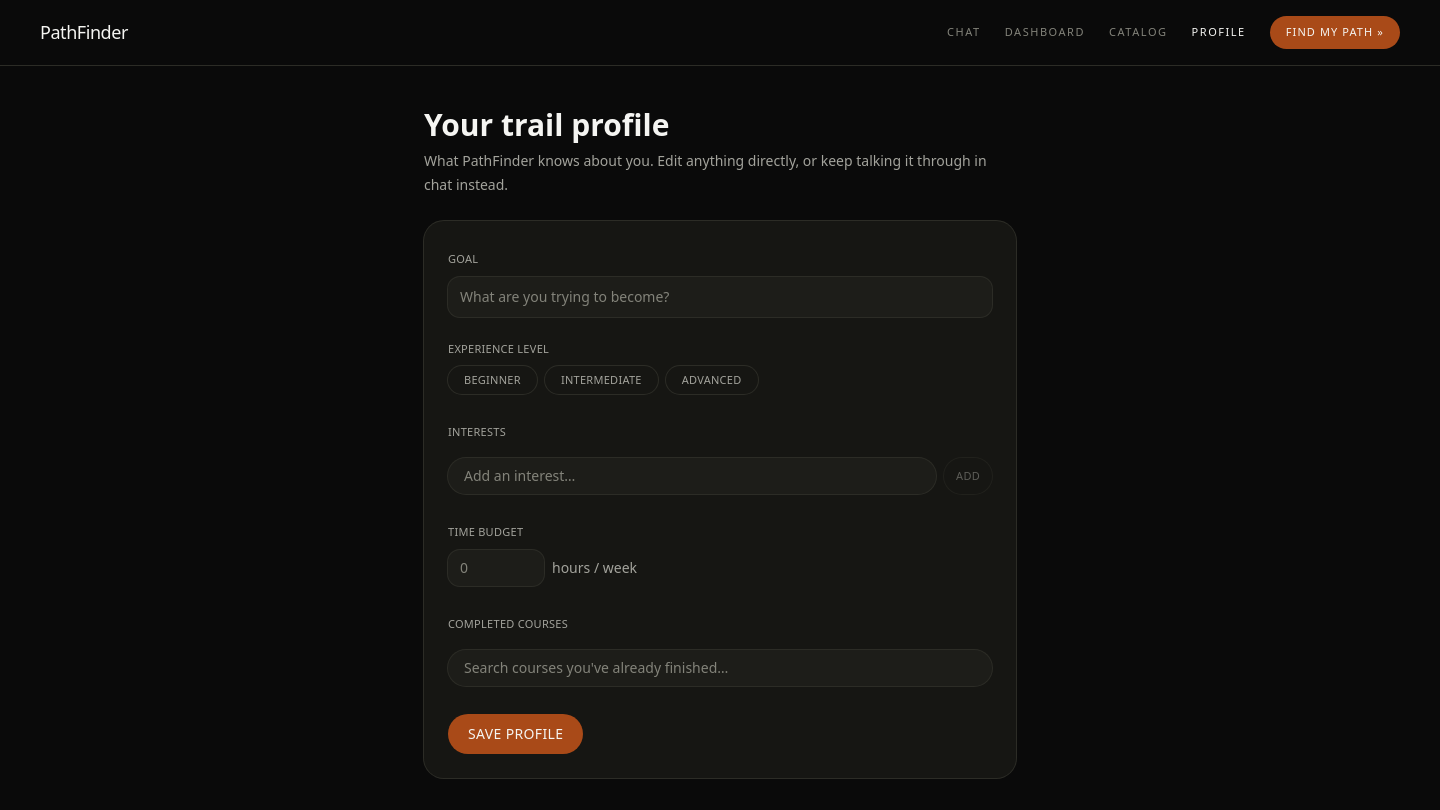
Test: ProfilePage › loads the current profile and lets the learner add and remove an interest
The width and height of the screenshot is (1440, 810).
Expected: the heading "Your trail profile" is shown, [424, 104, 669, 144]
Type "Kubernetes" into the field with placeholder "Add an interest…" at point(692, 476), box [448, 458, 936, 494]
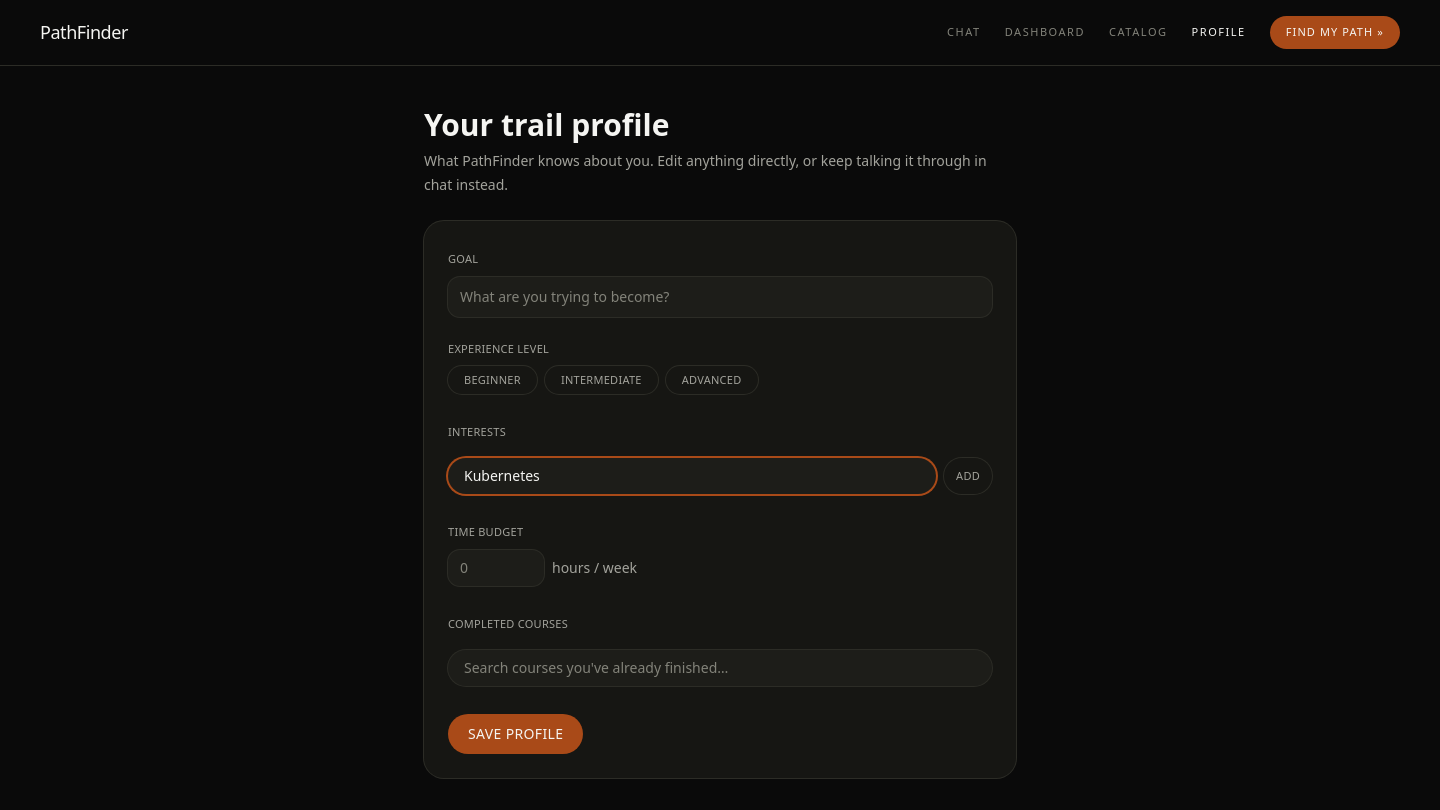
Click the button "Add" at point(968, 476), box [944, 458, 992, 494]
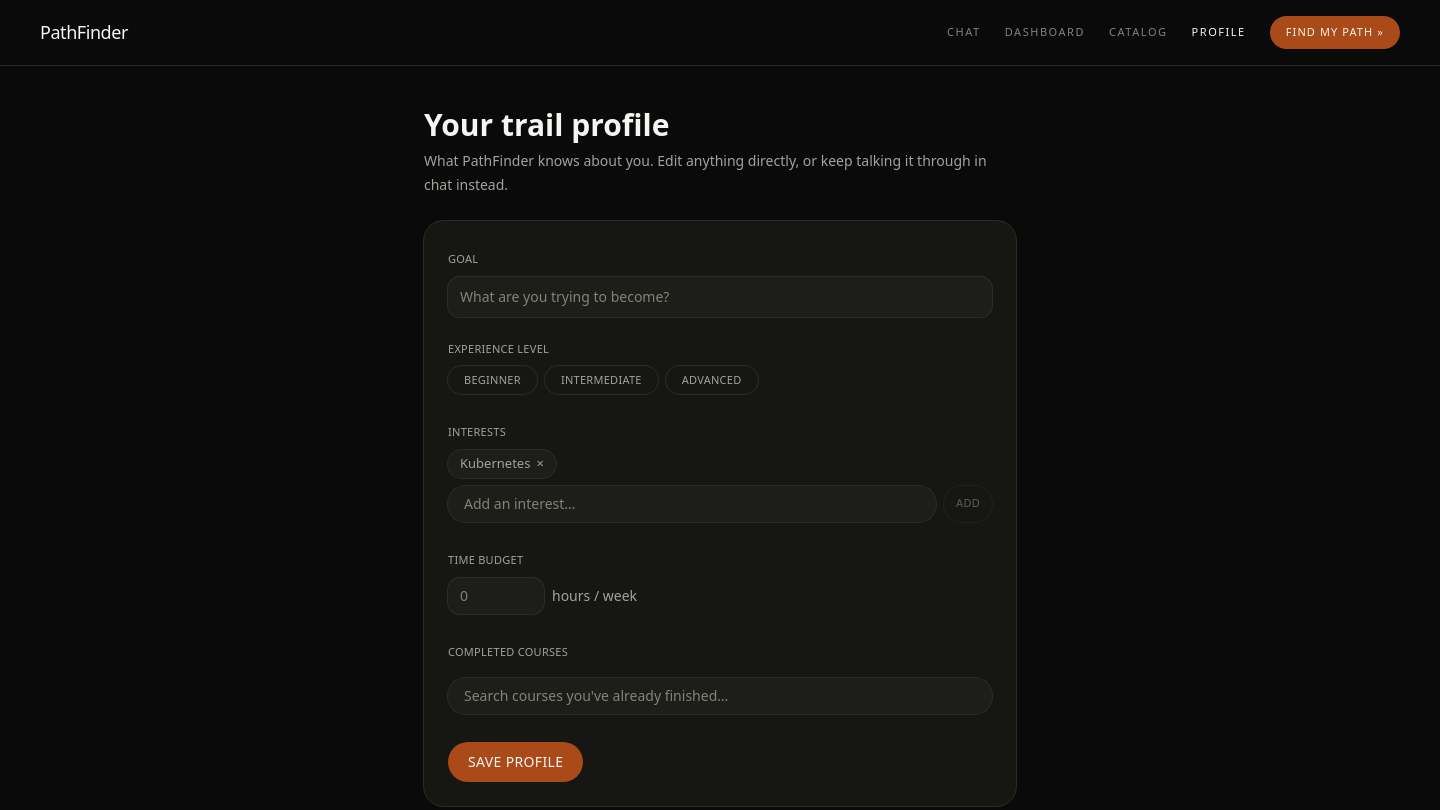
Expected: the text "Kubernetes" is shown, [460, 454, 530, 472]
Click the button named "Remove Kubernetes" at point(540, 464), box [532, 450, 548, 478]
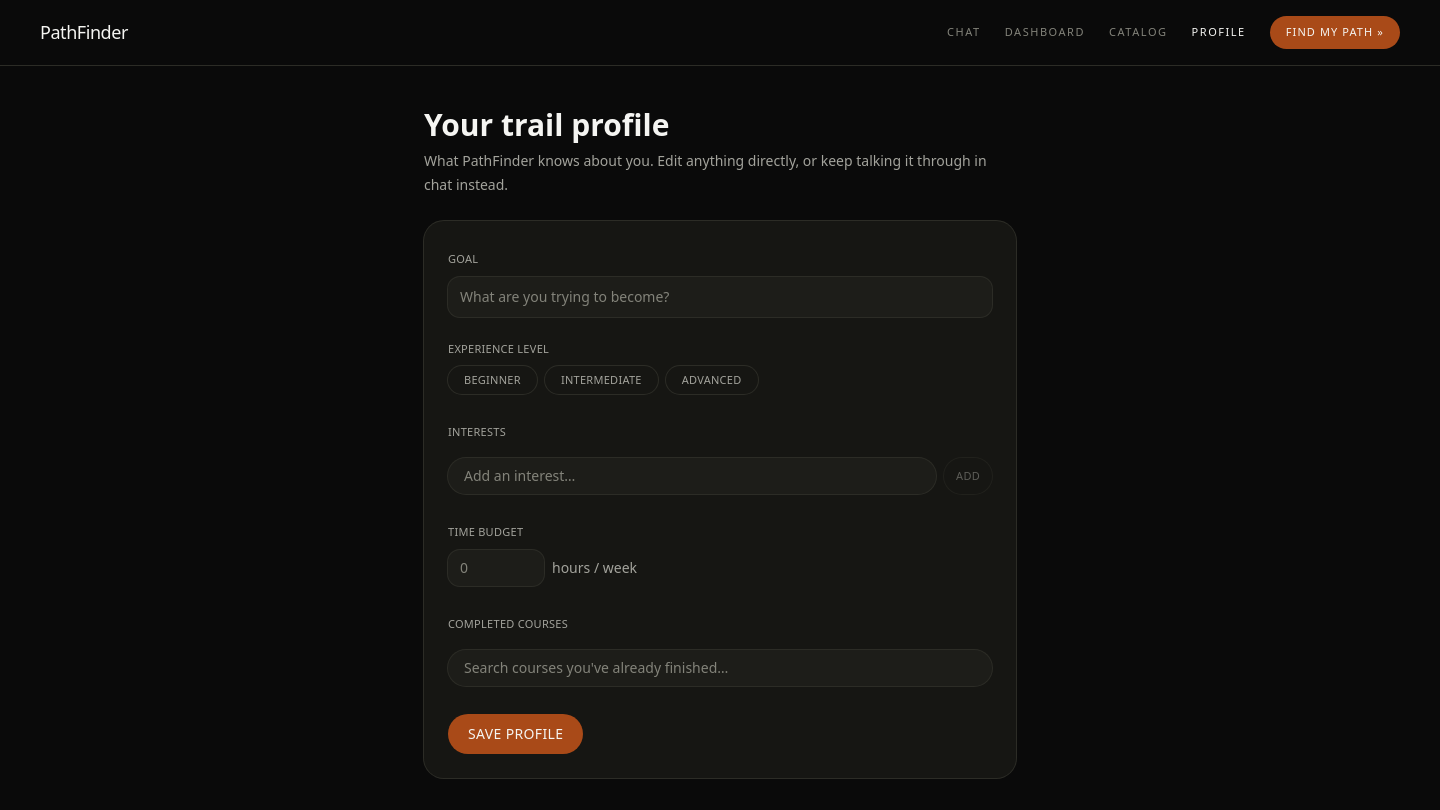
Expected: the text "Kubernetes" is gone
